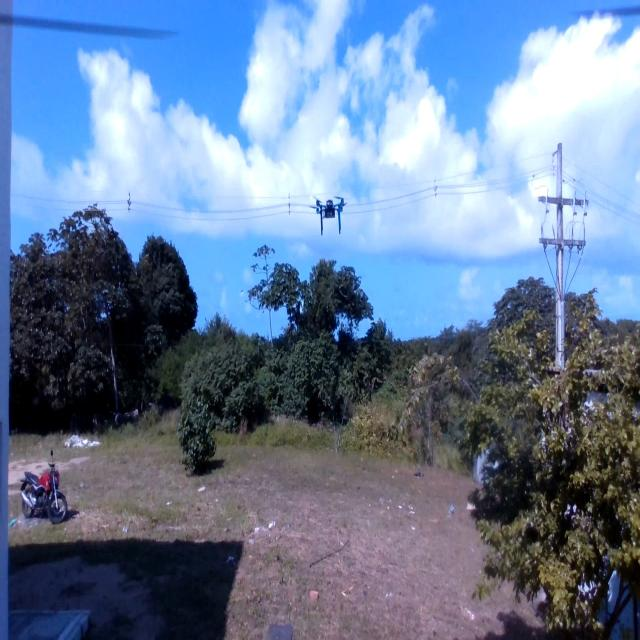-uav-: (301, 184, 355, 244)
